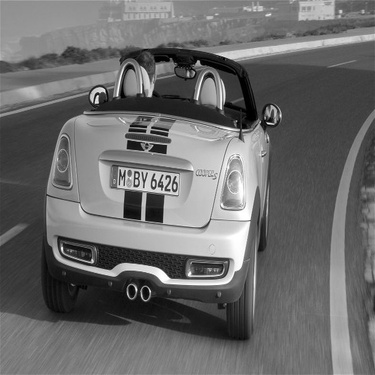car: (30, 34, 279, 338)
